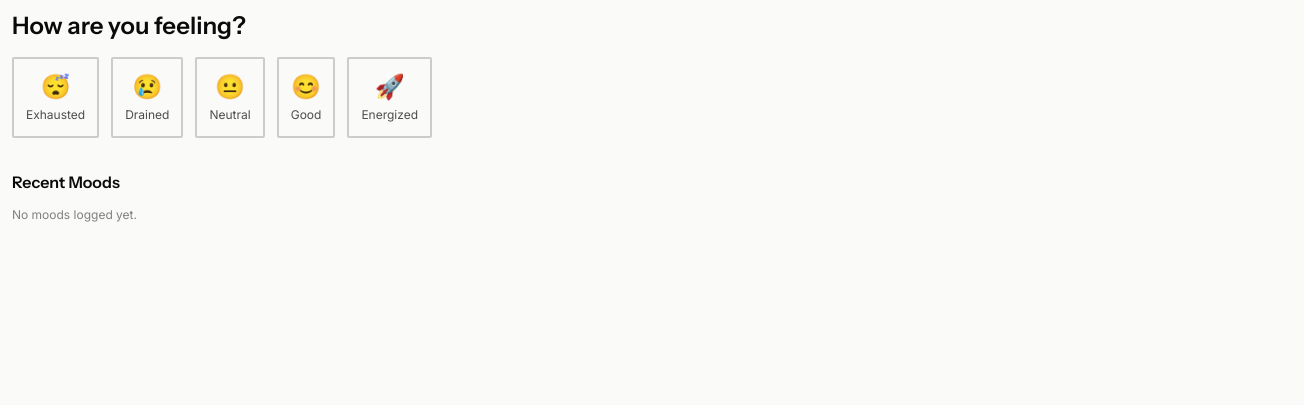
it: MoodTracker › shows textarea after selecting mood
The width and height of the screenshot is (1304, 405).
What coordinates should you click on to do the following:
click the text "Energized"
I would click on:
 (390, 115)
Its box is [361, 107, 418, 124].
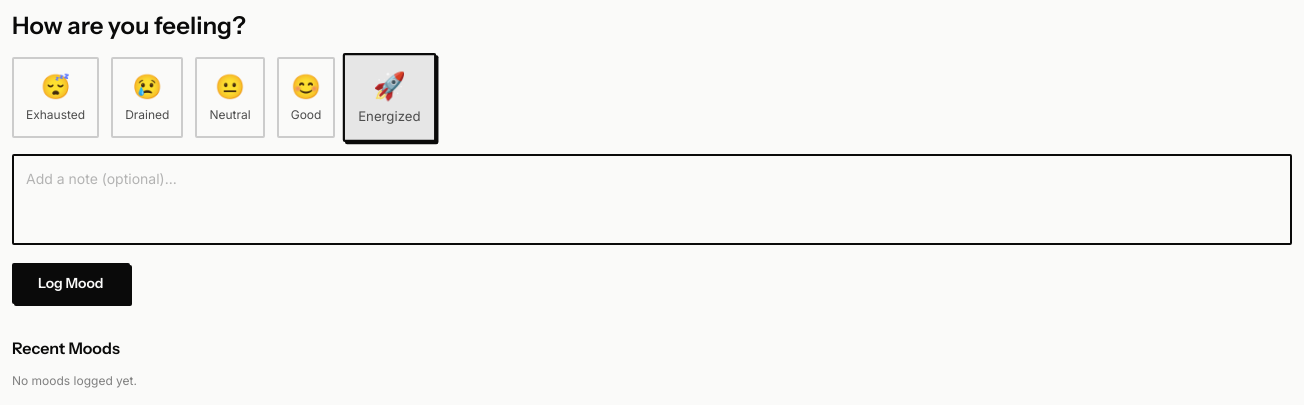
Expected: the text box with placeholder "Add a note (optional)..." is shown, [12, 154, 1292, 245]
Expected: the button "Log Mood" is shown, [12, 263, 130, 304]
